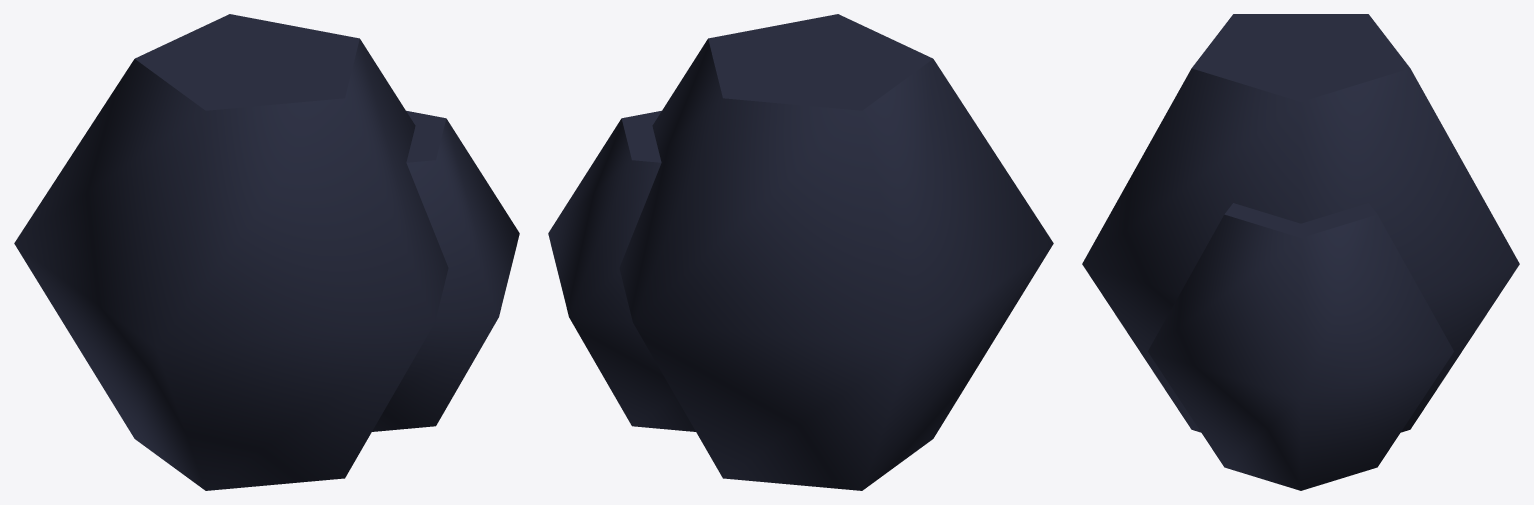
Rendered from SM_VFX_SmokePuff_LQ.glb.
The picture shows the model from 3 angles, left to right: view 1: azimuth 30°, elevation 25°; view 2: azimuth 150°, elevation 25°; view 3: azimuth 270°, elevation 25°; orthographic projection. The views are drawn at different scales.
Visible parts, largest first — view 1: SM_VFX_SmokePuff_LQ; view 2: SM_VFX_SmokePuff_LQ; view 3: SM_VFX_SmokePuff_LQ.
Boxes of the visible parts, bbox=[...] form: SM_VFX_SmokePuff_LQ: bbox=[14, 14, 519, 490]; SM_VFX_SmokePuff_LQ: bbox=[548, 14, 1053, 490]; SM_VFX_SmokePuff_LQ: bbox=[1082, 14, 1519, 490].
Bounding box in the file's own units: 1.66 × 1.39 × 1.52.
Materials: 1 (1 with a texture image).
